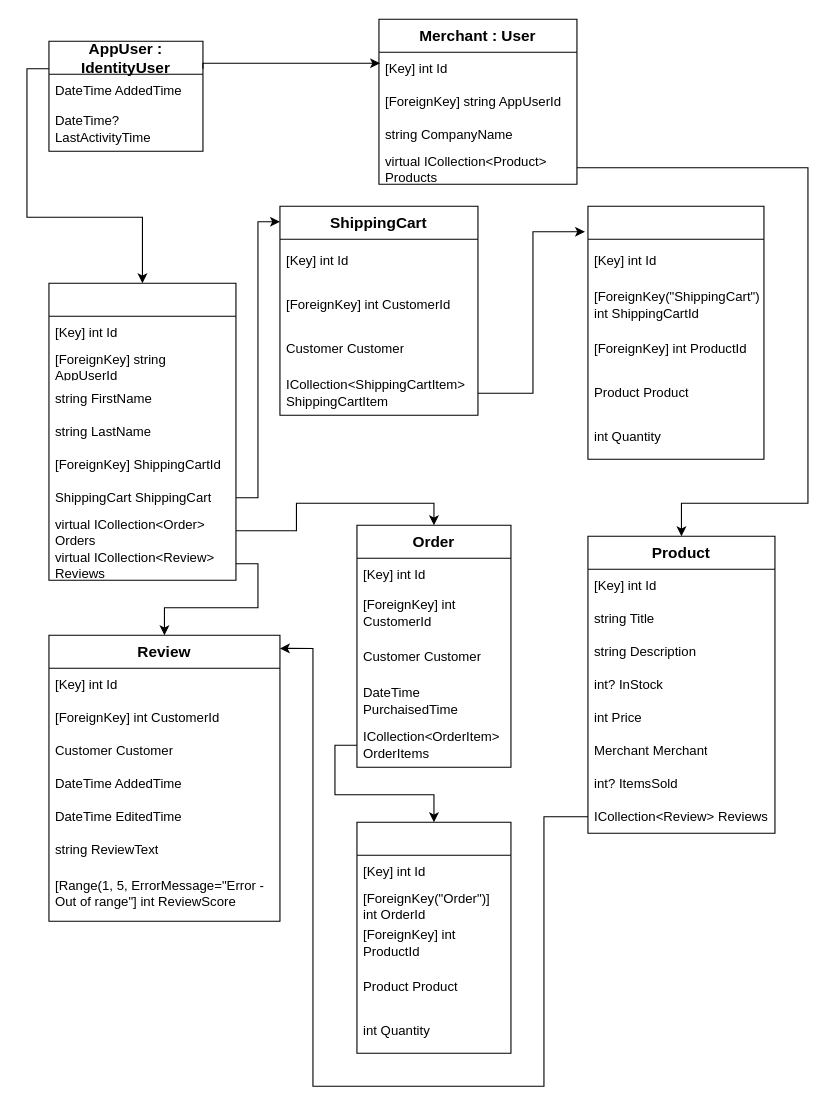
The diagram is 836 pixels wide and 1114 high, and some of its shapes have lost their labels. The shapes that lost their labels are listed below. From the top down, each one's box as (x1, y1, x2, y2) in pixels, then its label:
(587, 205, 764, 459): ShippingCartItem
(48, 282, 236, 580): Customer : User
(356, 821, 511, 1053): OrderItem
